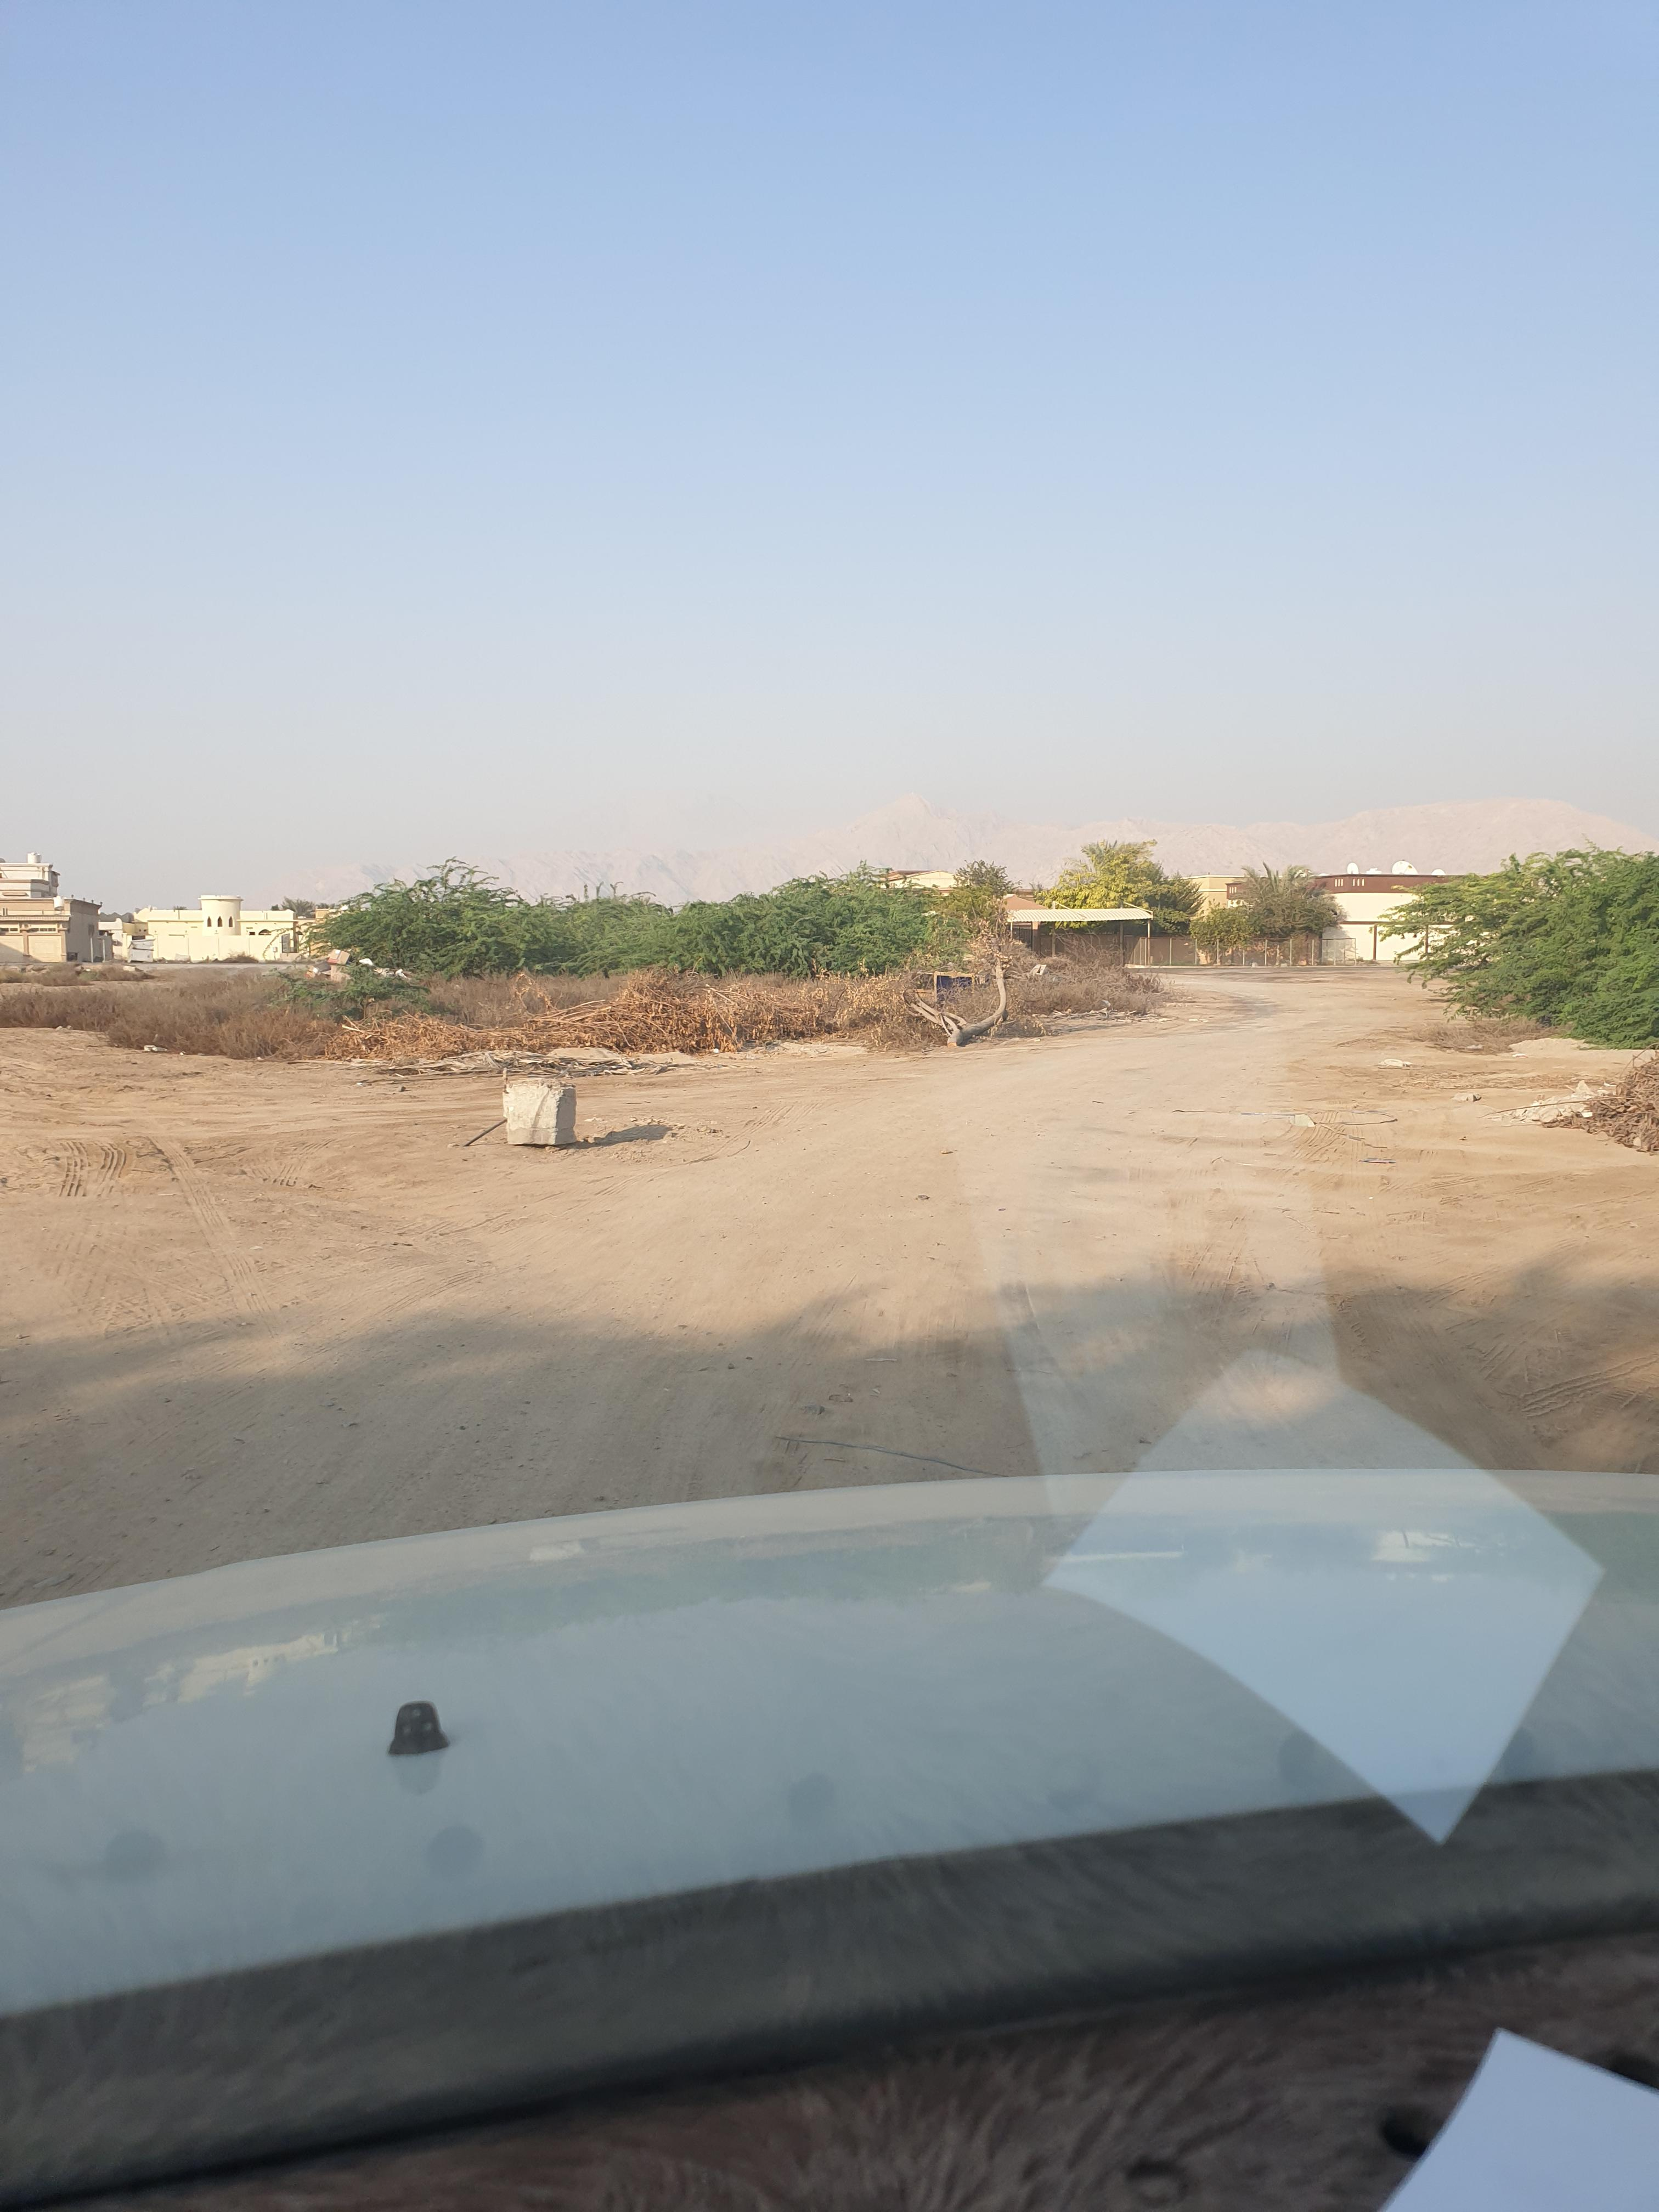fallen_trees: (512, 1010, 849, 1076), (868, 982, 1011, 1071)
